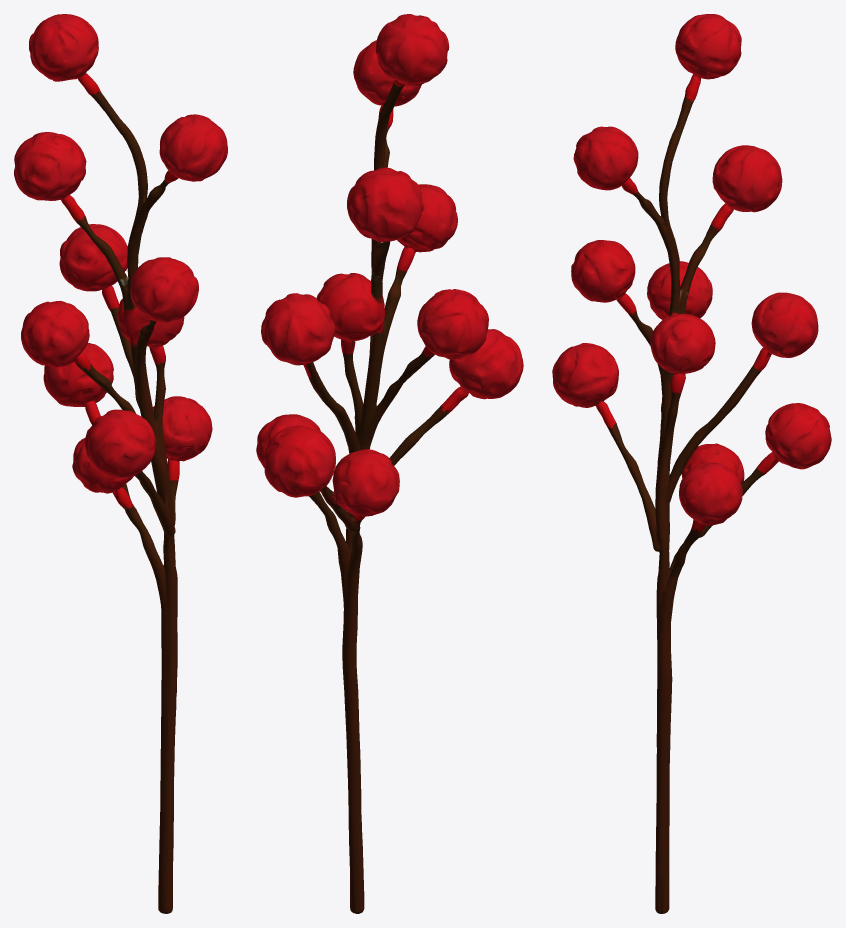
File: RedBalls.glb
The picture shows the model from 3 angles, left to right: view 1: azimuth 30°, elevation 25°; view 2: azimuth 150°, elevation 25°; view 3: azimuth 270°, elevation 25°; orthographic projection. The views are drawn at different scales.
Visible parts, largest first — view 1: tripo_node_3e020371-9225-4e04-be68-c062e054af35; view 2: tripo_node_3e020371-9225-4e04-be68-c062e054af35; view 3: tripo_node_3e020371-9225-4e04-be68-c062e054af35.
Part boxes in pixels (left/top/right/bottom): tripo_node_3e020371-9225-4e04-be68-c062e054af35: left=14, top=14, right=227, bottom=913; tripo_node_3e020371-9225-4e04-be68-c062e054af35: left=256, top=14, right=523, bottom=913; tripo_node_3e020371-9225-4e04-be68-c062e054af35: left=552, top=14, right=831, bottom=913.
Size of the model in its own units: 0.2318 by 0.9998 by 0.2945.
1 material, 1 textured.
